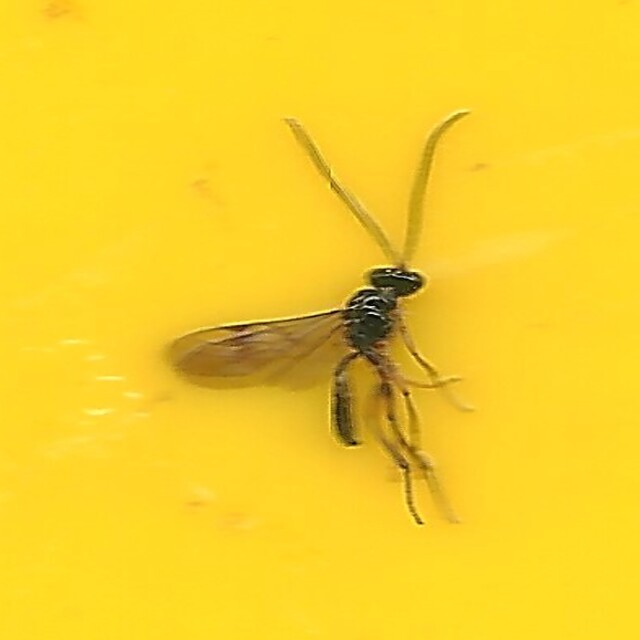Hymenoptera: (163, 111, 477, 529)
